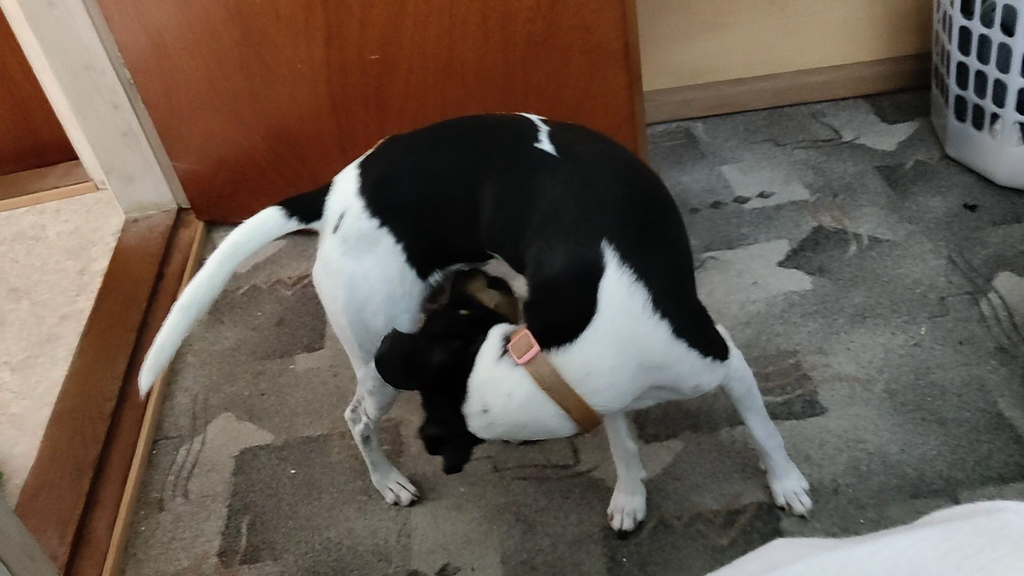Dog: (127, 101, 839, 546)
